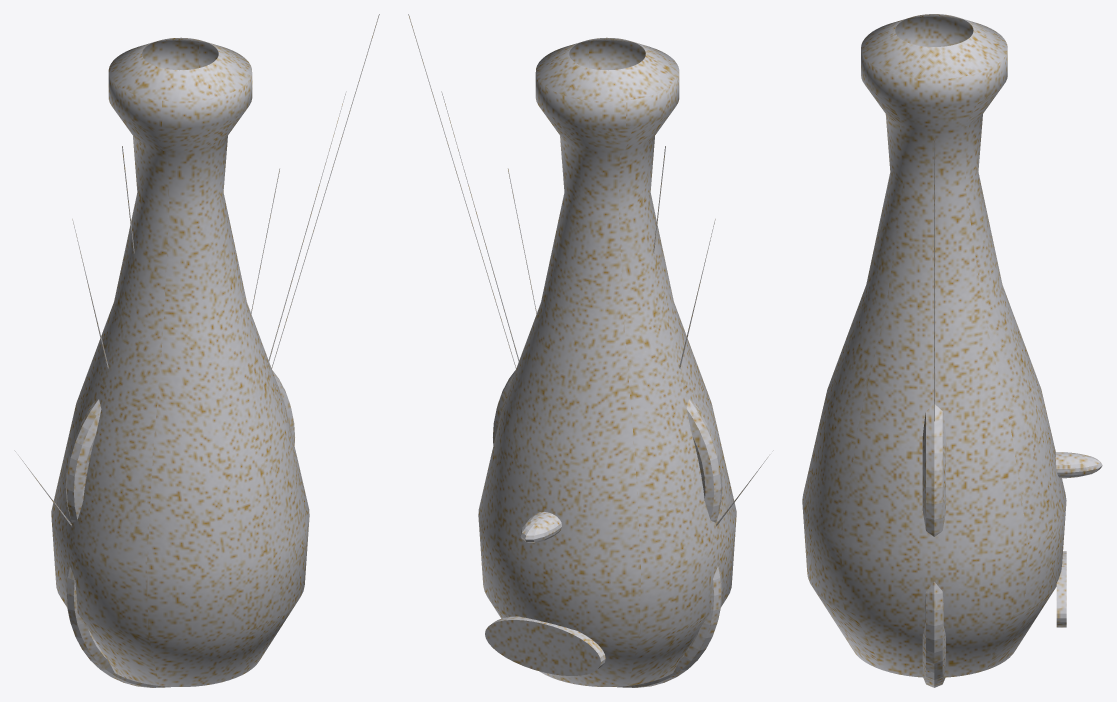
The model's file is tang-silver-ewer.glb.
3 views of the same model, side by side, from view 1: azimuth 30°, elevation 25°; view 2: azimuth 150°, elevation 25°; view 3: azimuth 270°, elevation 25° (orthographic). The views are drawn at different scales.
Visible parts, largest first — view 1: BézierCurve.001; view 2: BézierCurve.001; view 3: BézierCurve.001.
Part boxes in pixels (left/top/right/bottom): BézierCurve.001: left=14, top=14, right=379, bottom=687; BézierCurve.001: left=408, top=14, right=773, bottom=687; BézierCurve.001: left=802, top=14, right=1102, bottom=687.
Size of the model in its own units: 0.4406 by 0.727 by 0.307.
1 material, 1 textured.
